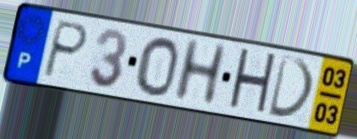3: (88, 27, 130, 90)
D: (265, 53, 317, 122)
H: (169, 37, 230, 106), (225, 46, 279, 119)
O: (134, 35, 181, 99)
P: (39, 18, 91, 81)
